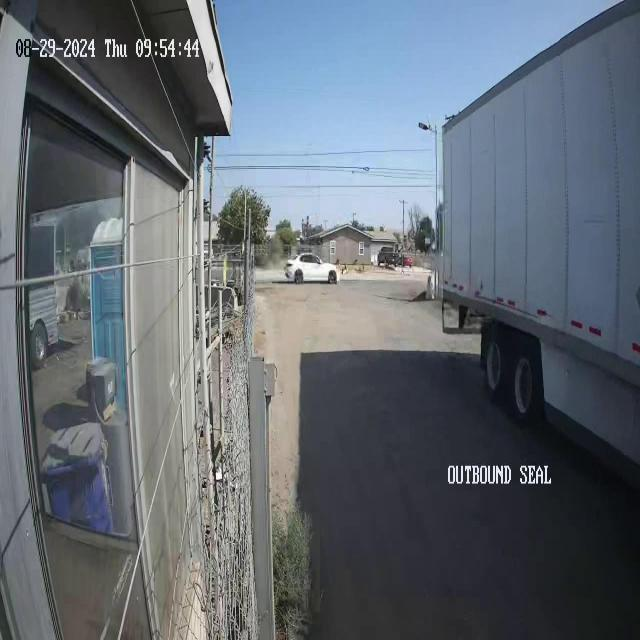TRUCK_IN: (432, 1, 640, 479)
